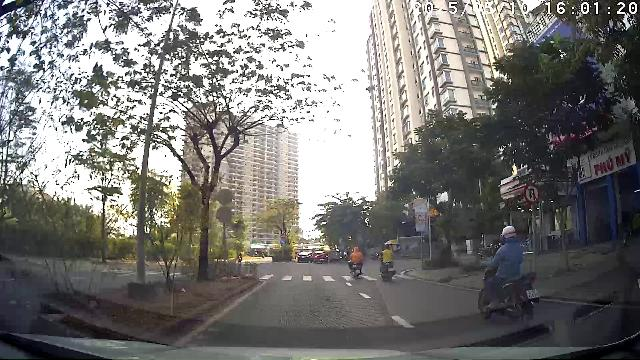124b-cam-oto-quay-dau-xe: (524, 183, 541, 204)
